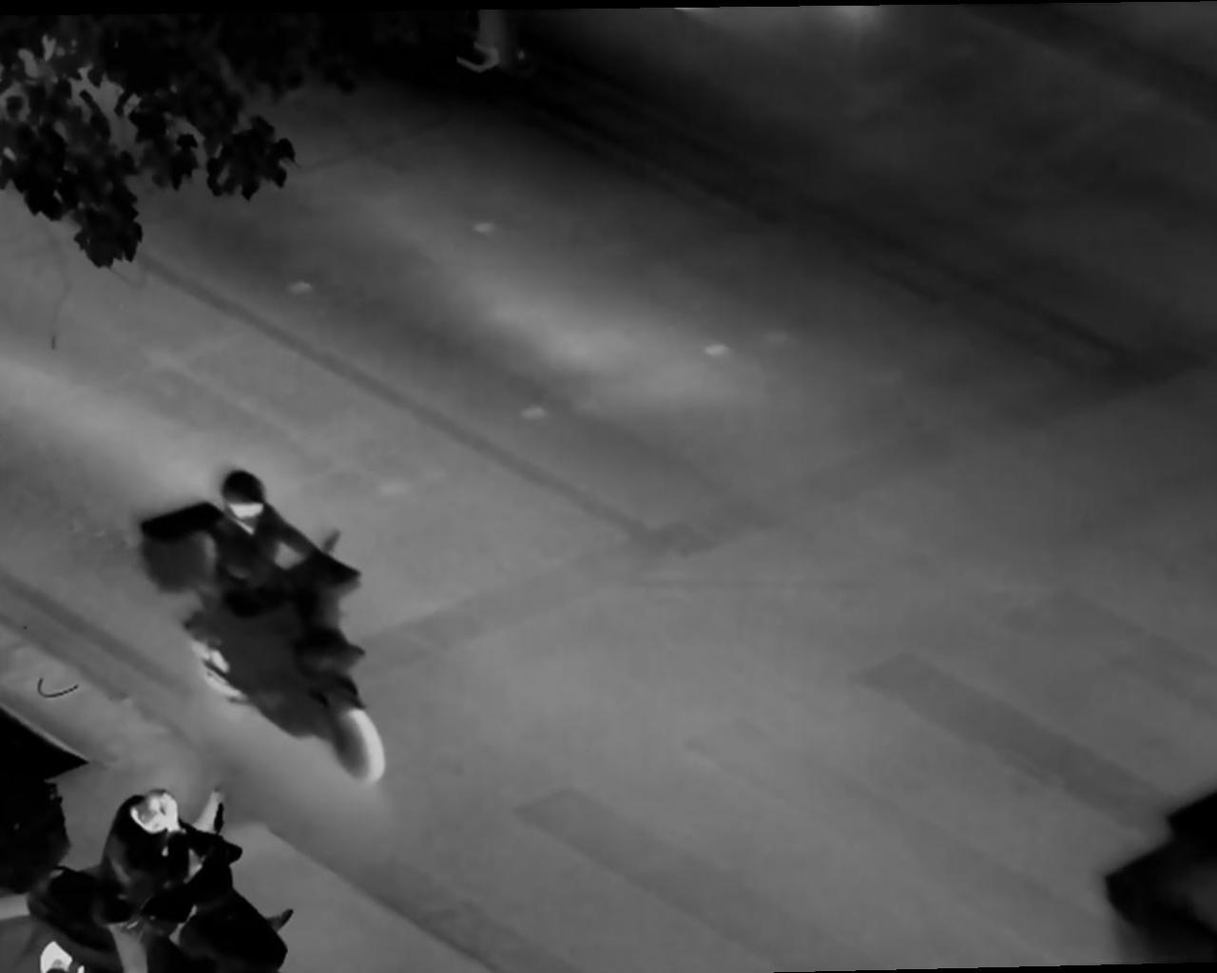person: (207, 467, 315, 722), (89, 783, 203, 973)
